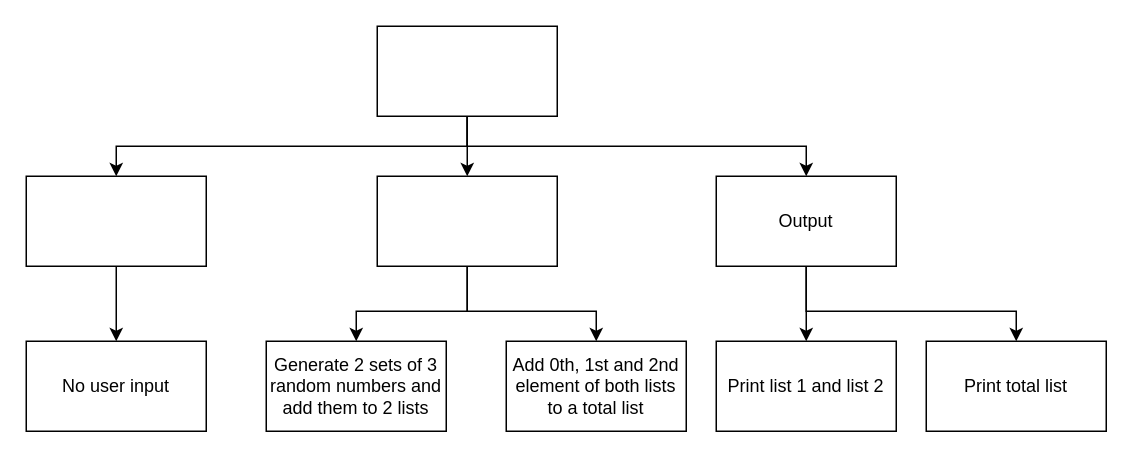
This 1133x458 diagram has some shape labels left out. Here are the shapes that lost their labels. From the top down, the box of each, then its label:
(376, 25, 557, 116): Combining 2 lists
(25, 175, 206, 266): Input
(376, 175, 557, 266): Process
